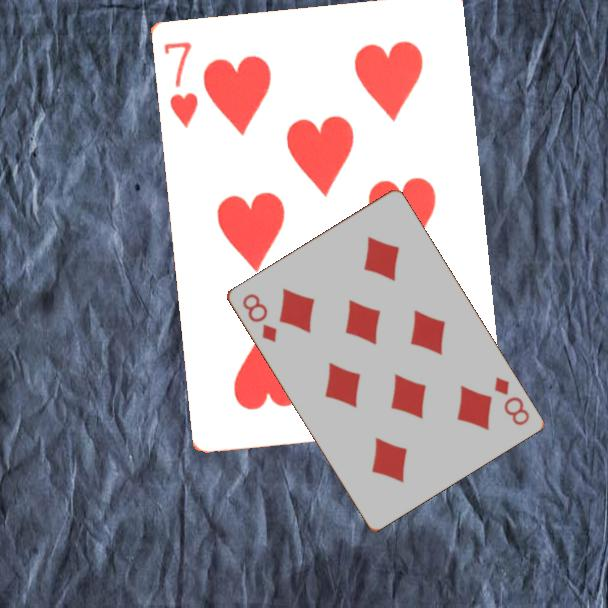d08: (490, 373, 532, 429), (238, 290, 279, 345)
h07: (160, 37, 201, 130)
